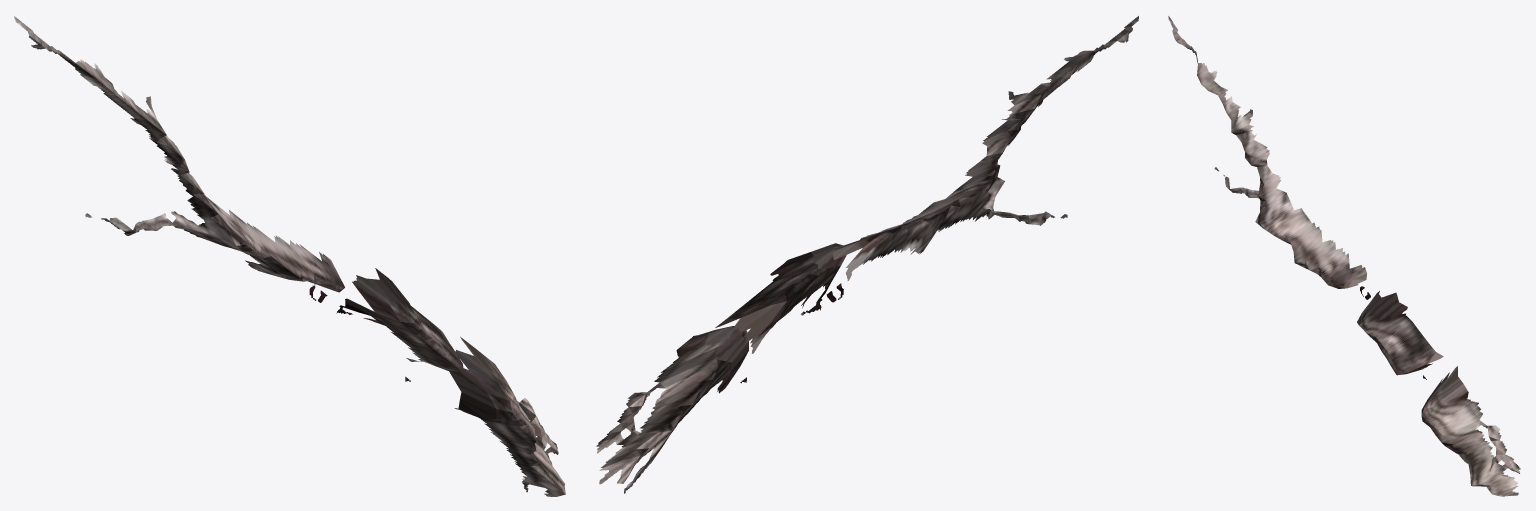
Rendered from comp_branch.obj.
The picture shows the model from 3 angles, left to right: view 1: azimuth 30°, elevation 25°; view 2: azimuth 150°, elevation 25°; view 3: azimuth 330°, elevation 25°; orthographic projection. The views are drawn at different scales.
Visible parts, largest first — view 1: comp_branch; view 2: comp_branch; view 3: comp_branch.
Part boxes in pixels (x1,y1,x2,y2): comp_branch: (14,16,565,496); comp_branch: (596,16,1138,493); comp_branch: (1168,16,1520,496).
Size of the model in its own units: 1.05 by 1.13 by 0.1859.
Materials: 1 (1 with a texture image).
